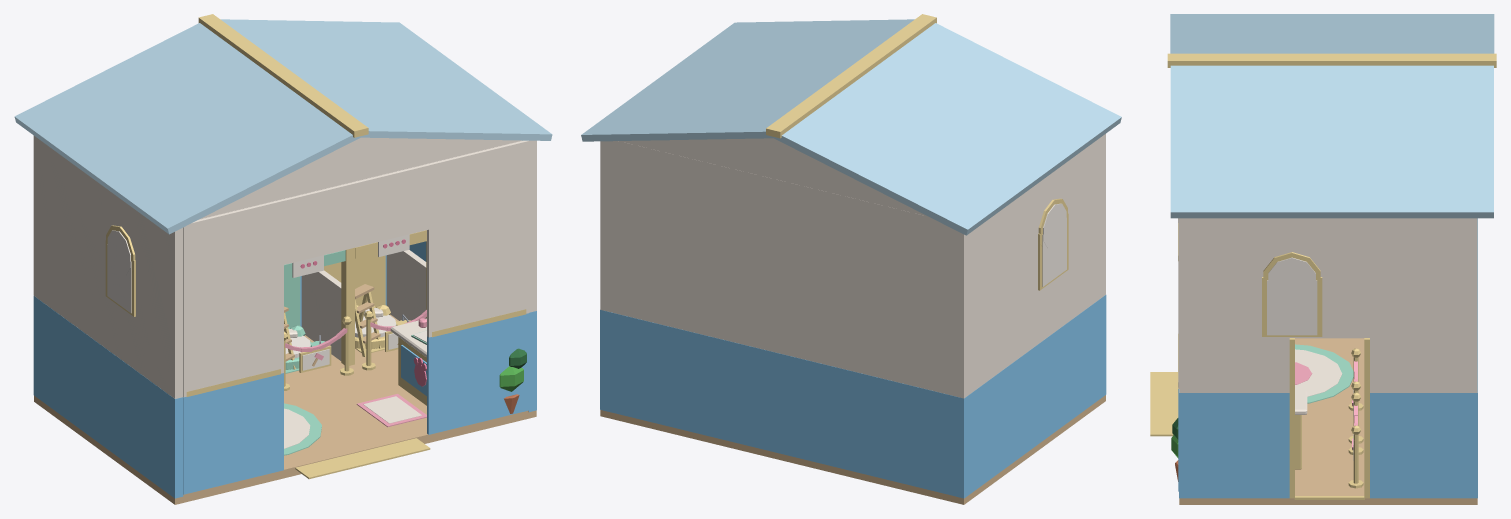
Rendered from CleanACat_Area_Hotel.fbx.
3 renders of one model, left to right at view 1: azimuth 30°, elevation 25°; view 2: azimuth 150°, elevation 25°; view 3: azimuth 270°, elevation 25°, orthographic. The views are drawn at different scales.
Visible parts, largest first — view 1: CleanACat_Area_Hotel, CleanACat_Area_Hotel_WallArt, CleanACat_Area_Hotel_Decor, CleanACat_Area_Hotel_Room3Lock_Decor, CleanACat_Area_Hotel_Room4Build_Decor, CleanACat_Area_Hotel_Room4Lock_Decor; view 2: CleanACat_Area_Hotel; view 3: CleanACat_Area_Hotel, CleanACat_Area_Hotel_Decor, CleanACat_Area_Hotel_Room4Lock_Decor, CleanACat_Area_Hotel_Room3Lock_Decor, CleanACat_Area_Hotel_WallArt.
Part boxes in pixels (left/top/right/bottom): CleanACat_Area_Hotel: left=14, top=14, right=552, bottom=504; CleanACat_Area_Hotel_WallArt: left=183, top=140, right=529, bottom=494; CleanACat_Area_Hotel_Decor: left=284, top=239, right=526, bottom=455; CleanACat_Area_Hotel_Room3Lock_Decor: left=284, top=316, right=353, bottom=390; CleanACat_Area_Hotel_Room4Build_Decor: left=355, top=284, right=410, bottom=356; CleanACat_Area_Hotel_Room4Lock_Decor: left=362, top=310, right=426, bottom=370; CleanACat_Area_Hotel: left=581, top=14, right=1121, bottom=504; CleanACat_Area_Hotel: left=1150, top=14, right=1496, bottom=504; CleanACat_Area_Hotel_Decor: left=1171, top=344, right=1353, bottom=481; CleanACat_Area_Hotel_Room4Lock_Decor: left=1348, top=392, right=1363, bottom=488; CleanACat_Area_Hotel_Room3Lock_Decor: left=1348, top=348, right=1363, bottom=443; CleanACat_Area_Hotel_WallArt: left=1178, top=218, right=1179, bottom=491.
Bounding box in the file's own units: 18.71 × 15.57 × 13.8.
Materials: 1 (1 with a texture image).
